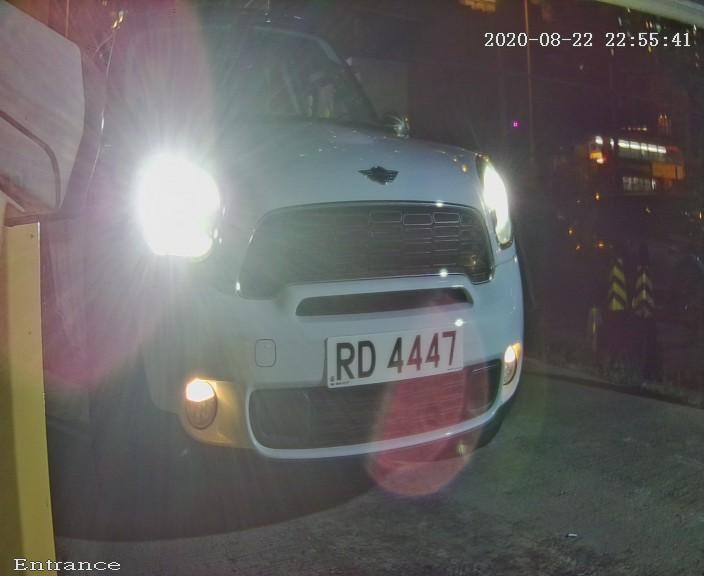Car: (16, 13, 607, 528)
License Plate: (303, 301, 482, 414)
